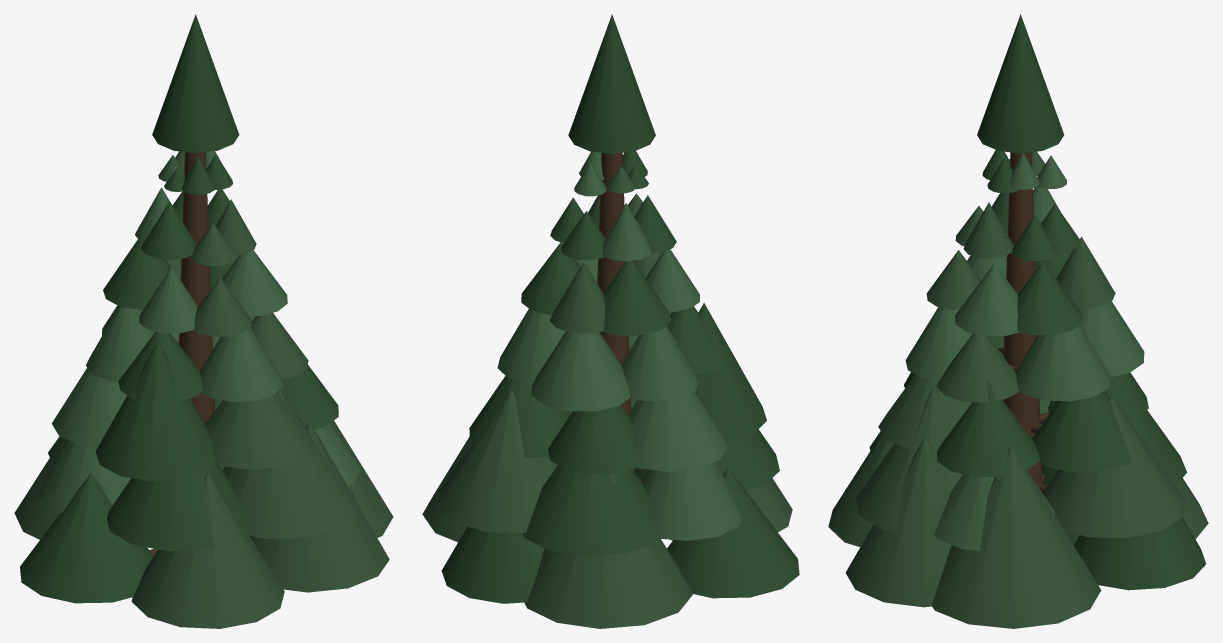
The model's file is tree_conifer_high.glb.
3 views of the same model, side by side, from view 1: azimuth 30°, elevation 25°; view 2: azimuth 150°, elevation 25°; view 3: azimuth 270°, elevation 25° (orthographic).
Bounding box in the file's own units: 6.73 × 10.65 × 6.27.
